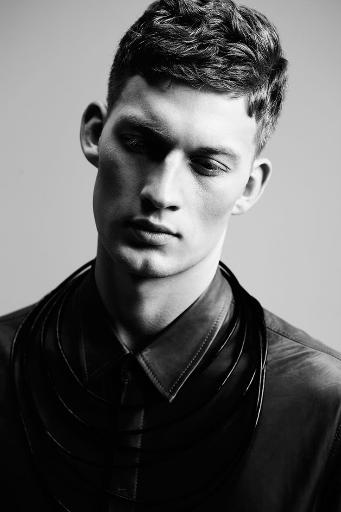left_eye: (188, 157, 232, 178)
left_lip_corner: (174, 229, 188, 245)
right_eye: (122, 137, 160, 152)
right_lip_corner: (124, 219, 138, 230)
